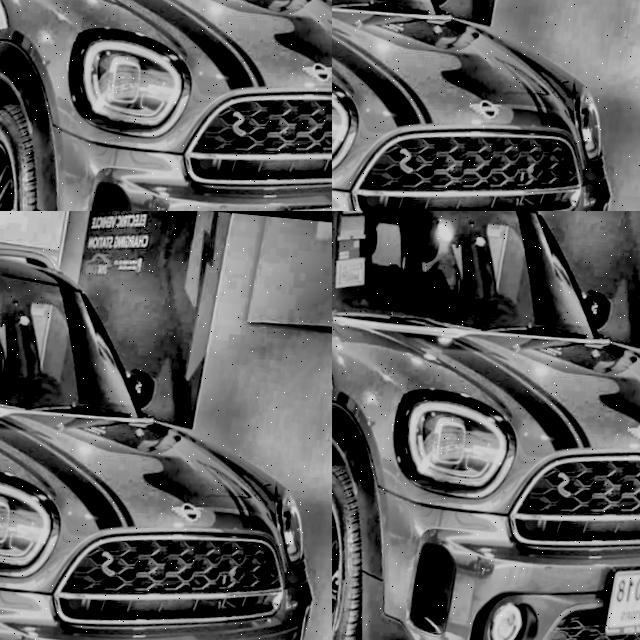license-plate: (332, 0, 640, 211), (605, 553, 640, 640)
